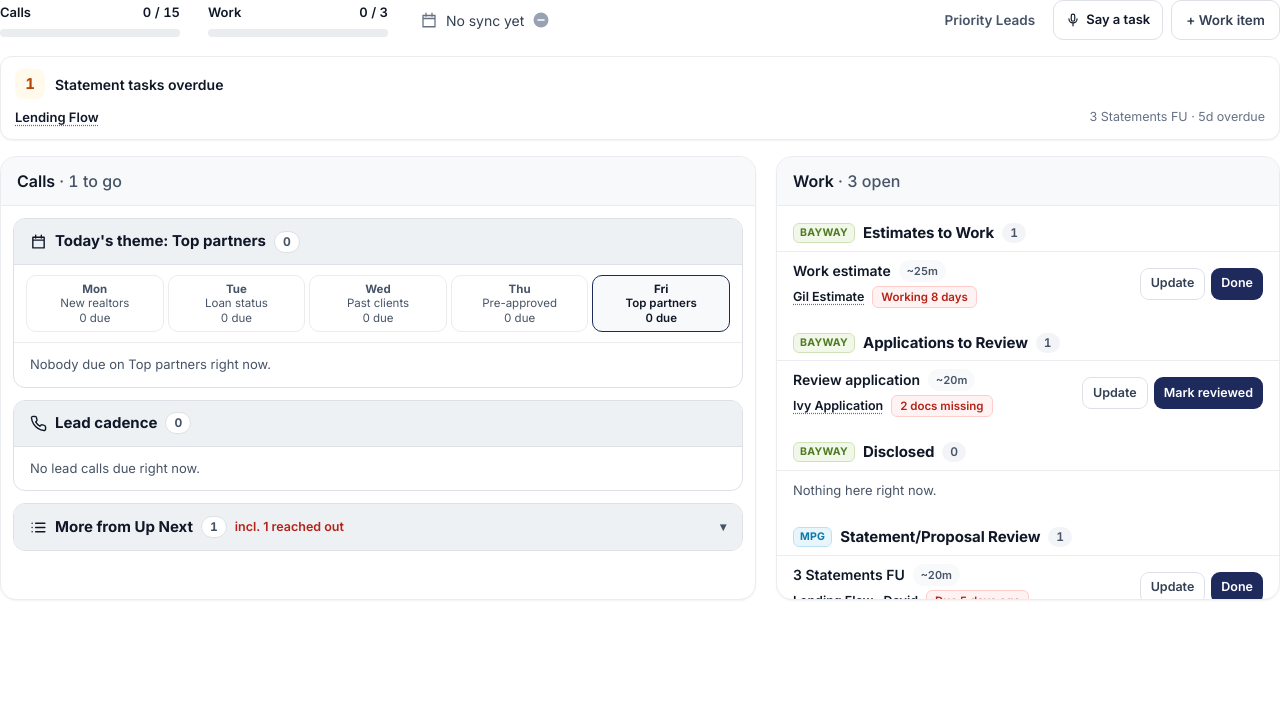
Test case: Workbench › suggests Application sent first for a buyer
The image size is (1280, 720).
Step 1. Click the button "Done" in the row of "Working 8 days" → (1237, 284), box [1211, 268, 1263, 300]
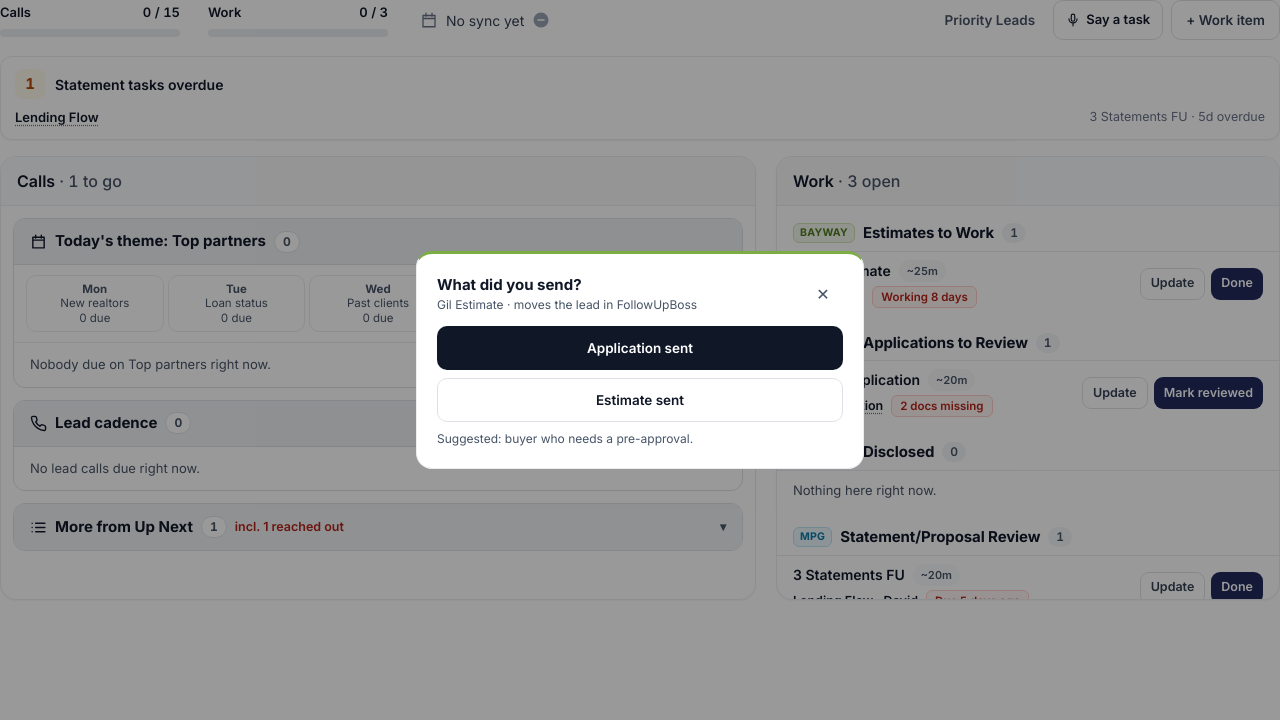
Result: the dialog shows "Suggested: buyer who needs a pre-approval" at [437, 431, 693, 446]
